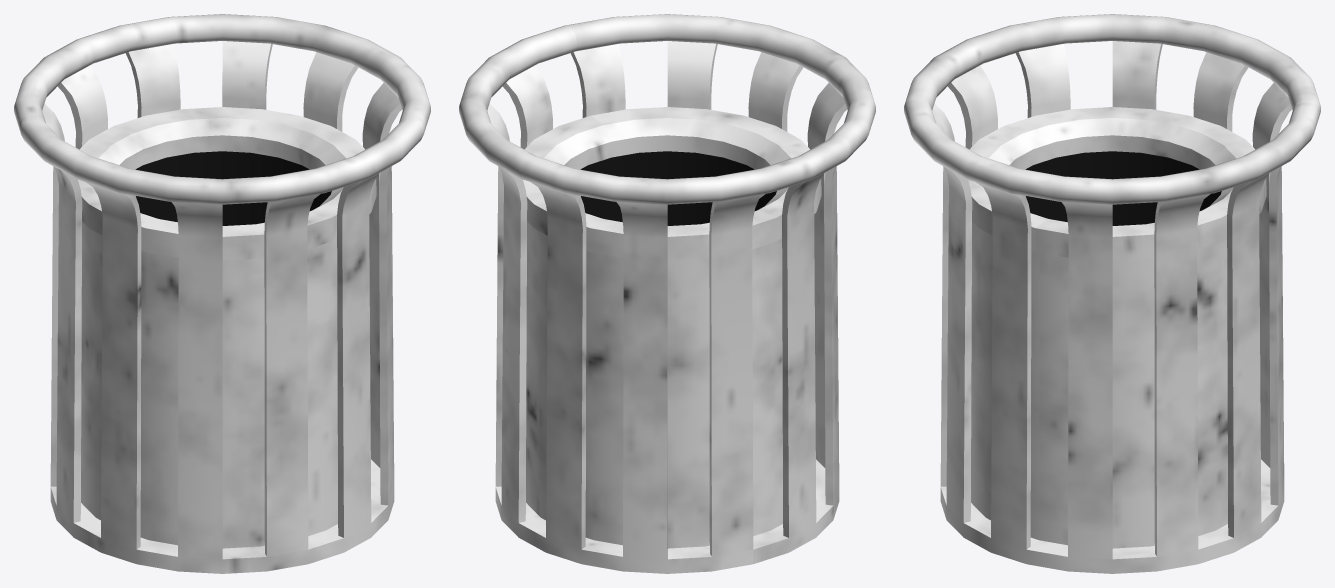
3 renders of one model, left to right at view 1: azimuth 30°, elevation 25°; view 2: azimuth 150°, elevation 25°; view 3: azimuth 270°, elevation 25°, orthographic.
Parts seen in each view (by area): view 1: TrashCanLined_Lod0_Model; view 2: TrashCanLined_Lod0_Model; view 3: TrashCanLined_Lod0_Model.
Part boxes in pixels (x1,y1,x2,y2): TrashCanLined_Lod0_Model: [14, 14, 430, 573]; TrashCanLined_Lod0_Model: [459, 14, 875, 573]; TrashCanLined_Lod0_Model: [904, 14, 1320, 573].
Size of the model in its own units: 0.8752 by 0.9325 by 0.8752.
Materials: 1 (1 with a texture image).
